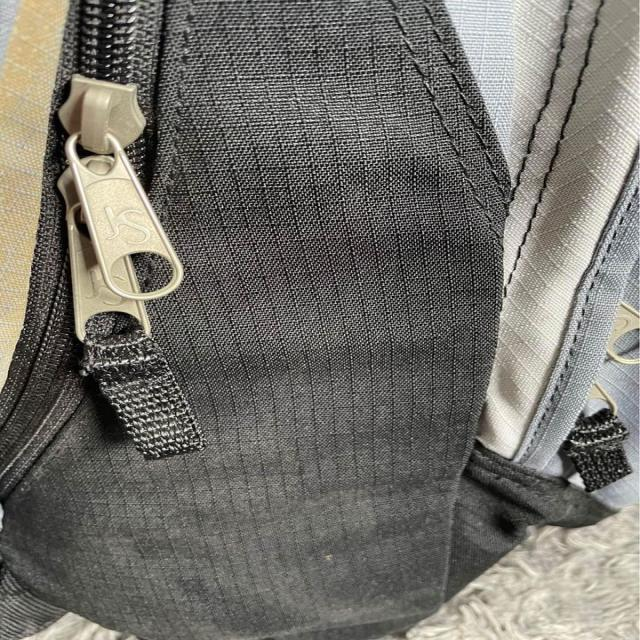bag: (15, 0, 636, 638)
